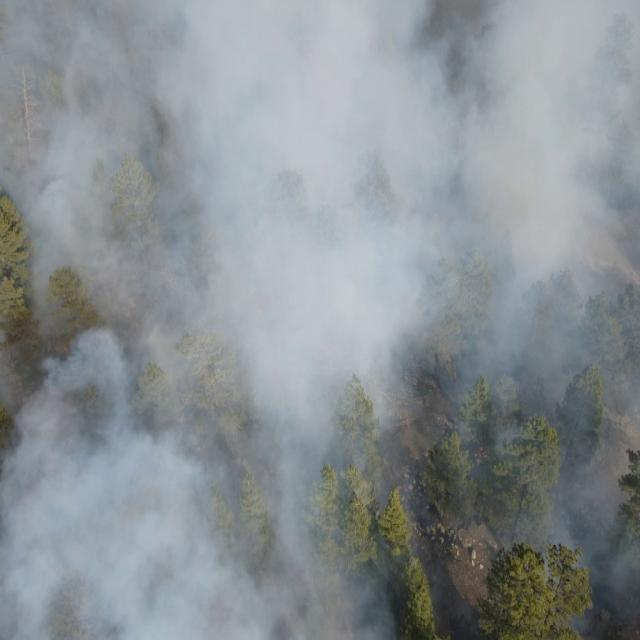fire: (474, 439, 493, 465)
smoke: (1, 0, 640, 639)
